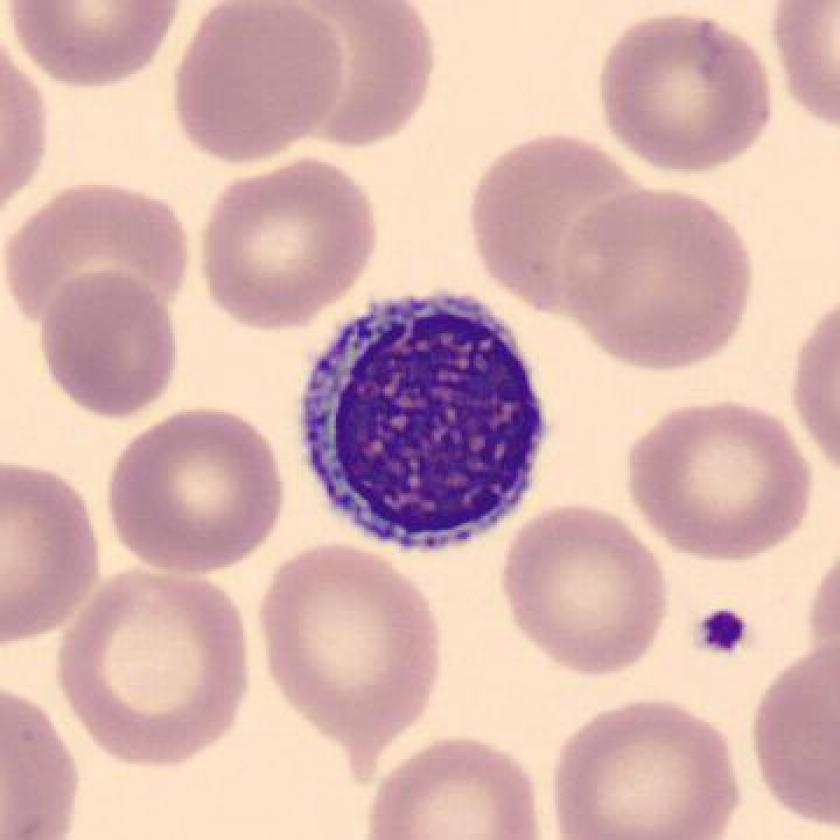lymphocyte: (288, 272, 561, 570)
